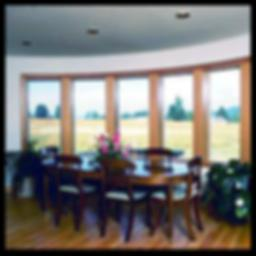Matera: (207, 164, 250, 220), (7, 144, 37, 194)
